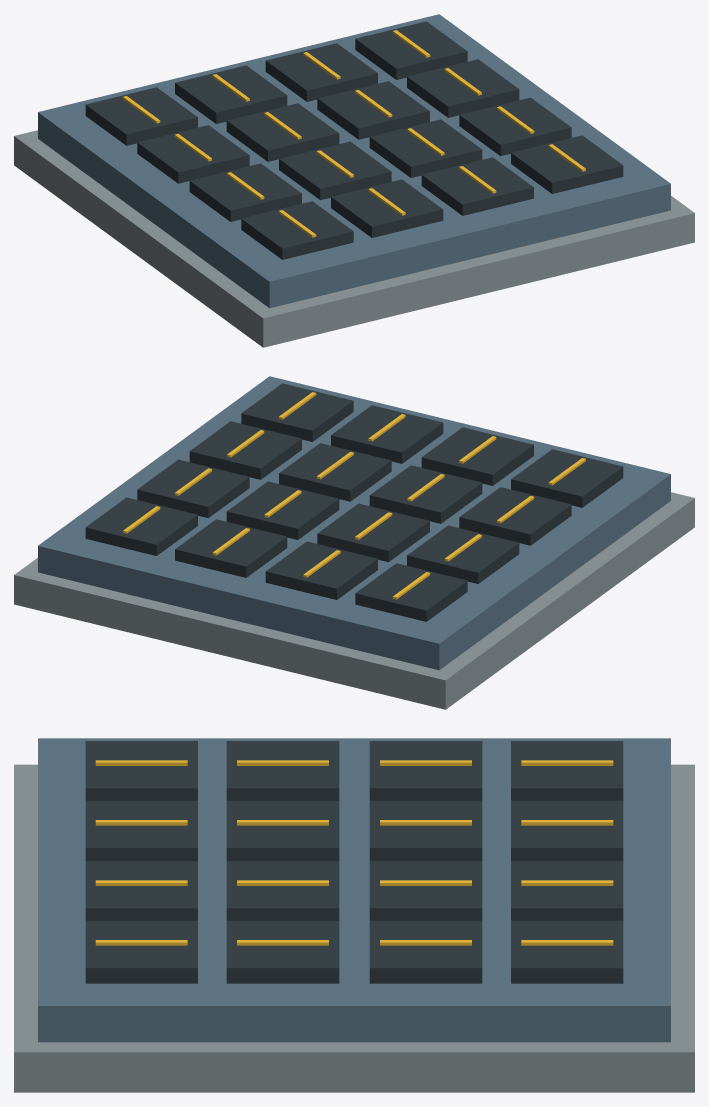
File: MOD_VLS.glb
3 views of the same model, one above another, from view 1: azimuth 30°, elevation 25°; view 2: azimuth 150°, elevation 25°; view 3: azimuth 270°, elevation 25° (orthographic). The views are drawn at different scales.
Parts seen in each view (by area): view 1: VLSArmoredHousing, VLSDeckBase, Hatch_05, Hatch_13, Hatch_01, Hatch_09, Hatch_07, Hatch_11, Hatch_15, Hatch_03, Hatch_10, Hatch_12 (+6 smaller); view 2: VLSArmoredHousing, VLSDeckBase, Hatch_08, Hatch_16, Hatch_04, Hatch_12, Hatch_06, Hatch_10, Hatch_14, Hatch_02, Hatch_11, Hatch_09 (+6 smaller); view 3: VLSArmoredHousing, VLSDeckBase, Hatch_14, Hatch_15, Hatch_13, Hatch_16, Hatch_06, Hatch_07, Hatch_05, Hatch_08, Hatch_02, Hatch_03 (+22 smaller).
Part boxes in pixels (box(x1,y1,x2,y2)): VLSArmoredHousing: box(38, 14, 670, 308); VLSDeckBase: box(14, 130, 694, 347); Hatch_05: box(331, 179, 443, 237); Hatch_13: box(511, 135, 623, 193); Hatch_01: box(241, 201, 353, 259); Hatch_09: box(421, 157, 533, 215); Hatch_07: box(226, 103, 339, 161); Hatch_11: box(317, 81, 429, 139); Hatch_15: box(407, 59, 519, 117); Hatch_03: box(137, 125, 249, 183); Hatch_10: box(369, 119, 482, 177); Hatch_12: box(265, 43, 377, 101); VLSArmoredHousing: box(38, 376, 670, 670); VLSDeckBase: box(14, 492, 694, 709); Hatch_08: box(265, 541, 377, 599); Hatch_16: box(85, 497, 197, 555); Hatch_04: box(355, 563, 467, 621); Hatch_12: box(175, 519, 287, 577); Hatch_06: box(369, 465, 482, 523); Hatch_10: box(279, 443, 391, 501); Hatch_14: box(189, 421, 301, 479); Hatch_02: box(459, 487, 571, 545); Hatch_11: box(226, 481, 339, 539); Hatch_09: box(331, 405, 443, 463); VLSArmoredHousing: box(38, 738, 670, 1042); VLSDeckBase: box(14, 764, 694, 1092); Hatch_14: box(226, 920, 339, 983); Hatch_15: box(369, 920, 482, 983); Hatch_13: box(85, 920, 197, 983); Hatch_16: box(511, 920, 623, 983); Hatch_06: box(226, 800, 339, 860); Hatch_07: box(369, 800, 482, 860); Hatch_05: box(85, 800, 197, 860); Hatch_08: box(511, 800, 623, 860); Hatch_02: box(226, 741, 339, 800); Hatch_03: box(369, 741, 482, 800).
Size of the model in its own units: 4 by 0.63 by 4.
